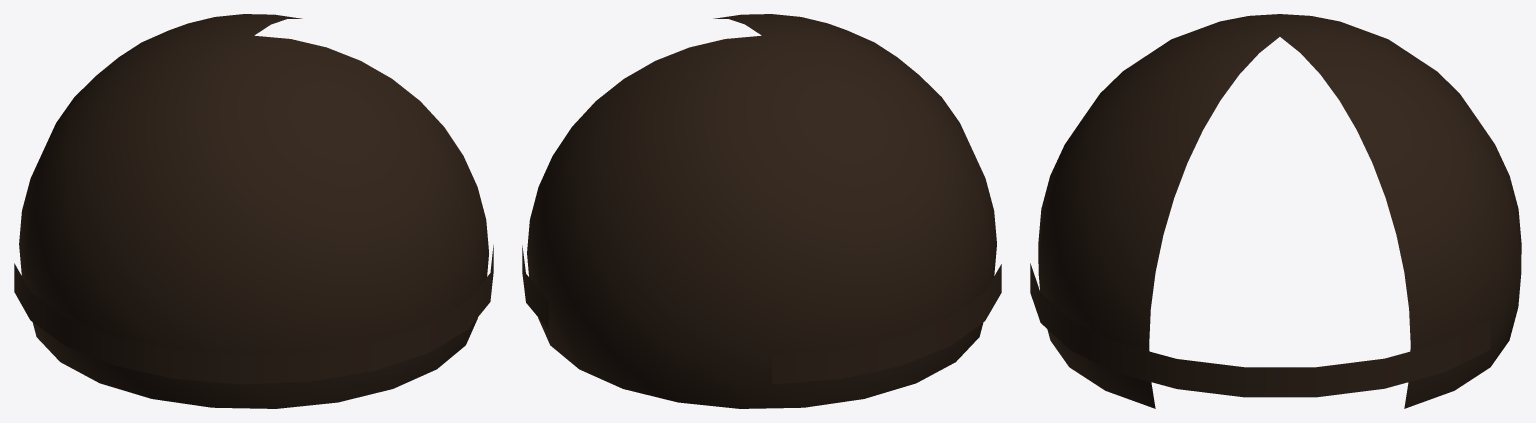
Rendered from leather_helmet.glb.
3 views of the same model, side by side, from view 1: azimuth 30°, elevation 25°; view 2: azimuth 150°, elevation 25°; view 3: azimuth 270°, elevation 25° (orthographic). The views are drawn at different scales.
Visible parts, largest first — view 1: shell, rim; view 2: shell, rim; view 3: shell, rim.
Boxes of the visible parts, x1,y1,x2,y2 form: shell: (19, 14, 488, 408); rim: (14, 245, 493, 384); shell: (527, 14, 996, 408); rim: (522, 245, 1001, 384); shell: (1038, 14, 1521, 408); rim: (1030, 263, 1490, 397).
Size of the model in its own units: 0.4456 by 0.288 by 0.4429.
